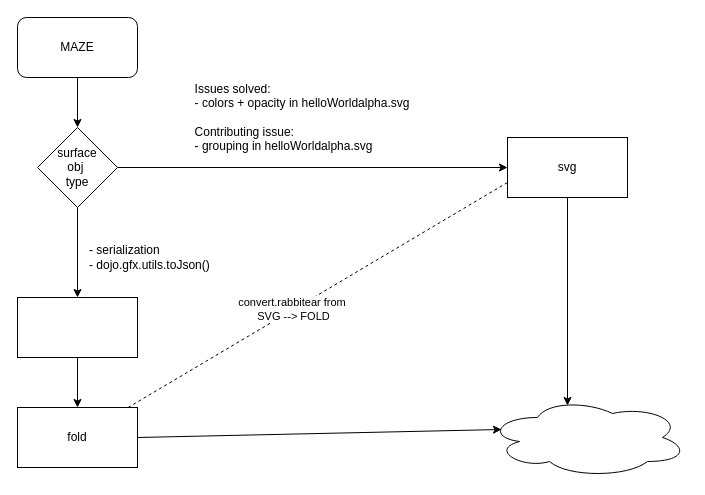
Some shapes in this 705 by 495 pixel diagram are drawn without their labels. Each missing label, with the box of its shape:
AMANDA: (486, 396, 688, 478)
json: (16, 296, 138, 358)
